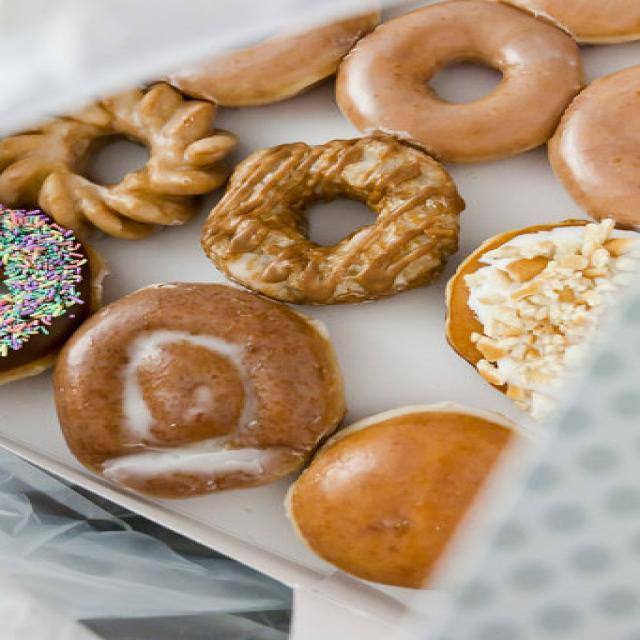Donuts: (2, 4, 640, 599)
